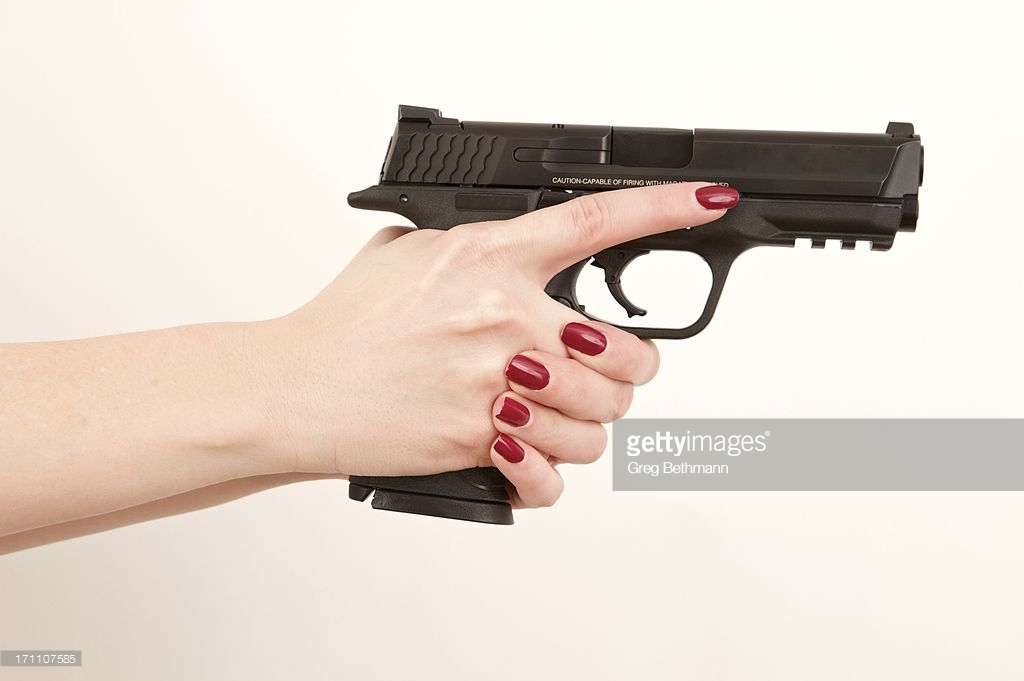pistol: (307, 40, 968, 606)
